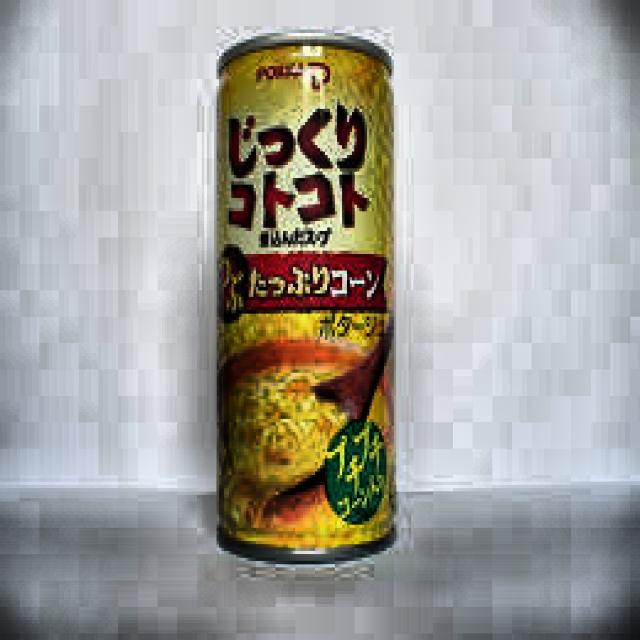can: (207, 23, 402, 572)
